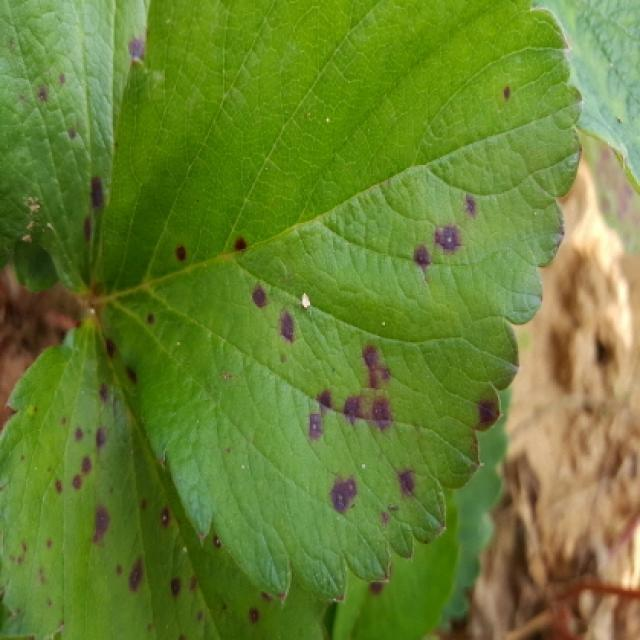Leaf Spot: (89, 0, 587, 604), (0, 328, 336, 638), (335, 492, 467, 638)
